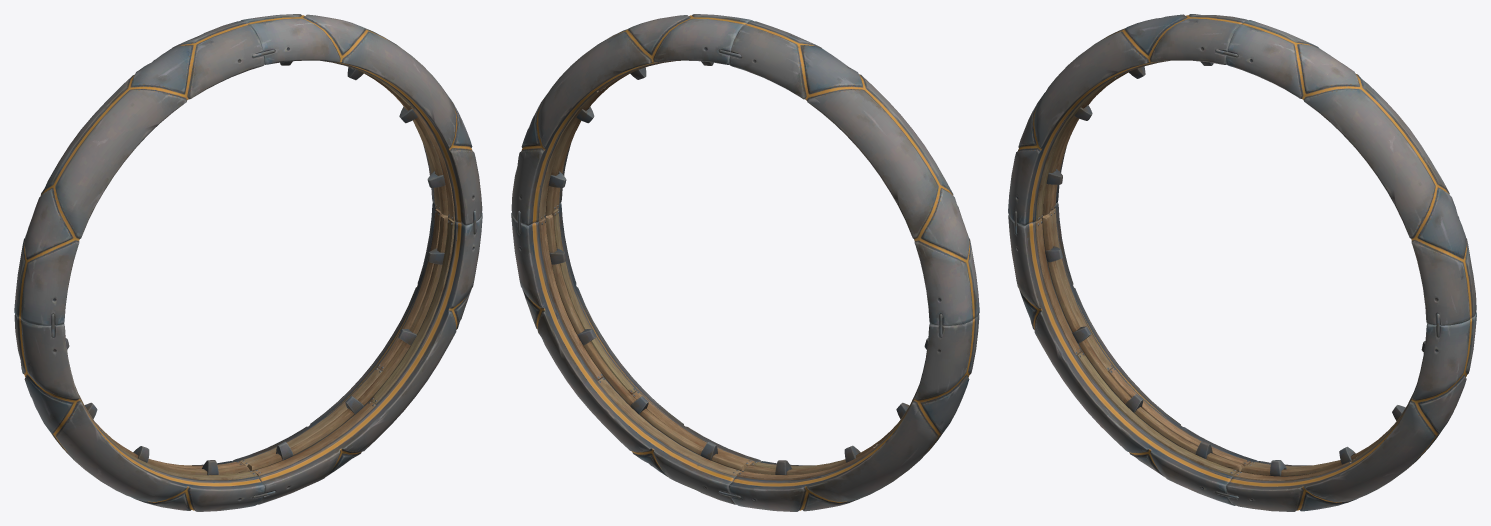
The model's file is gate.gltf.
3 renders of one model, left to right at view 1: azimuth 30°, elevation 25°; view 2: azimuth 150°, elevation 25°; view 3: azimuth 330°, elevation 25°, orthographic.
Visible parts, largest first — view 1: SM_RiftGate_Portal_A_LOD0.mo.002; view 2: SM_RiftGate_Portal_A_LOD0.mo.002; view 3: SM_RiftGate_Portal_A_LOD0.mo.002.
Part boxes in pixels (bbox=[...]): SM_RiftGate_Portal_A_LOD0.mo.002: bbox=[14, 14, 482, 511]; SM_RiftGate_Portal_A_LOD0.mo.002: bbox=[511, 14, 979, 511]; SM_RiftGate_Portal_A_LOD0.mo.002: bbox=[1008, 14, 1476, 511].
Bounding box in the file's own units: 6.23 × 6.23 × 0.7992.
1 material, 1 textured.
